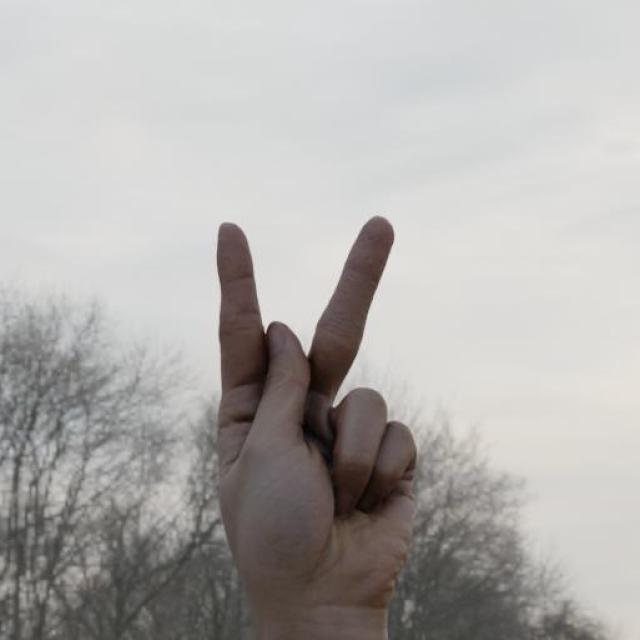K: (213, 213, 417, 592)
